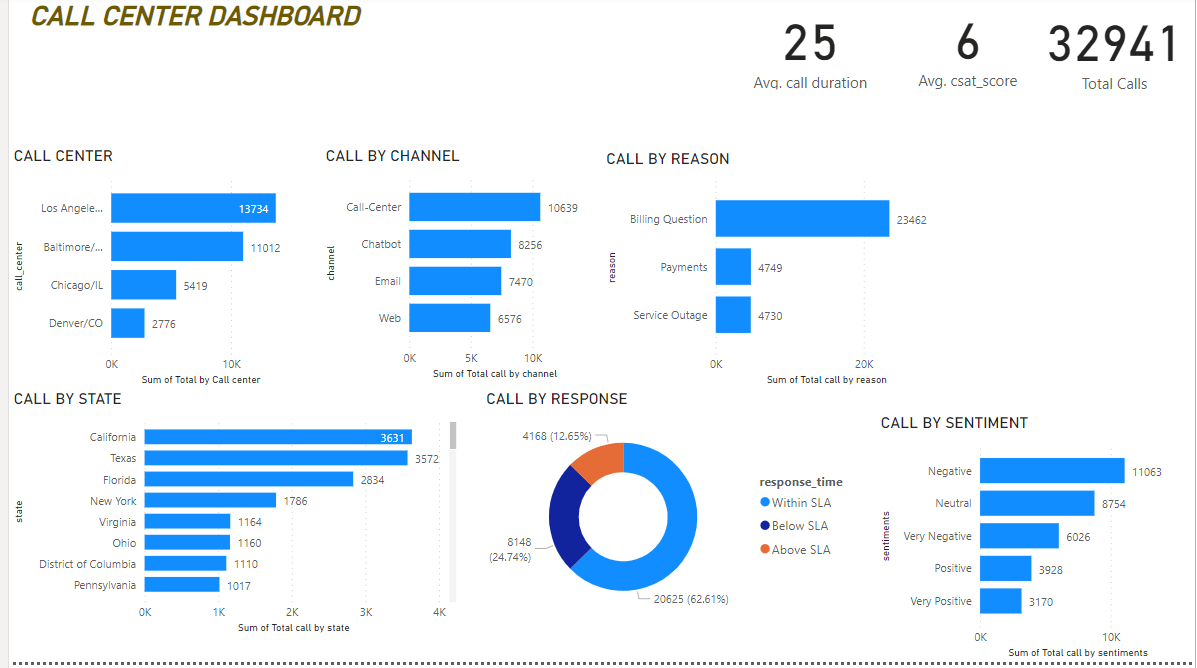

What the dashboard file says about the page in this screenshot:
{"tool":"powerbi","page":{"name":"Page 1","canvas":[1280,720],"ordinal":0},"visuals":[{"type":"barChart","title":"CALL CENTER","fields":{"Category":["result of number of country by continent.call_center"],"Y":["Sum(result of number of country by continent.Total by Call center)"]},"box":[0,163.8,319,262.1],"z":0},{"type":"clusteredBarChart","title":"CALL BY CHANNEL","fields":{"Category":["call channel.channel"],"Y":["Sum(call channel.Total call by channel)"]},"box":[336.2,163.8,294.8,255.2],"z":1000},{"type":"barChart","title":"CALL BY REASON","fields":{"Y":["Sum(call reason.Total call reason)"],"Category":["call reason.reason"]},"box":[639.7,167.2,377.6,258.6],"z":2000},{"type":"barChart","title":" CALL BY SENTIMENT","fields":{"Category":["call sentiment.sentiments"],"Y":["Sum(call sentiment.Total call by sentiments)"]},"box":[936.2,451.4,338.5,268.6],"z":3000},{"type":"clusteredBarChart","title":"CALL BY STATE","fields":{"Category":["call BY STATE.state"],"Y":["Sum(call BY STATE.Total call)"]},"box":[0,425.9,487.9,267.2],"z":4000},{"type":"donutChart","title":"CALL BY RESPONSE","fields":{"Category":["call by response time.response_time"],"Y":["Sum(call by response time.Total call)"]},"box":[510.3,425.9,412.1,253.4],"z":5000},{"type":"card","fields":{"Values":["Sum(Total Calls.Total call)"]},"box":[1105.2,0,174.1,112.1],"z":7000},{"type":"card","fields":{"Values":["Sum(Avg  call duration.Avg call duration)"]},"box":[772.4,3.4,184.5,103.4],"z":8000},{"type":"card","fields":{"Values":["Sum(Avg  satisfaction.avg score)"]},"box":[956.9,0,155.2,106.9],"z":9000},{"type":"textbox","box":[0,0,400,84.5],"z":10000}]}

Visuals, with their boxes in screenshot pixels (x1, y1, x2, y2), scaled from the page's 1280x720 canvas onto the 1197x668 screenshot:
"CALL CENTER" barChart: (0,152,298,395)
"CALL BY CHANNEL" clusteredBarChart: (314,152,590,389)
"CALL BY REASON" barChart: (598,155,951,395)
" CALL BY SENTIMENT" barChart: (875,419,1192,667)
"CALL BY STATE" clusteredBarChart: (0,395,456,643)
"CALL BY RESPONSE" donutChart: (477,395,863,630)
card - Sum(Total Calls.Total call): (1034,0,1196,104)
card - Sum(Avg  call duration.Avg call duration): (722,3,895,99)
card - Sum(Avg  satisfaction.avg score): (895,0,1040,99)
textbox: (0,0,374,78)
